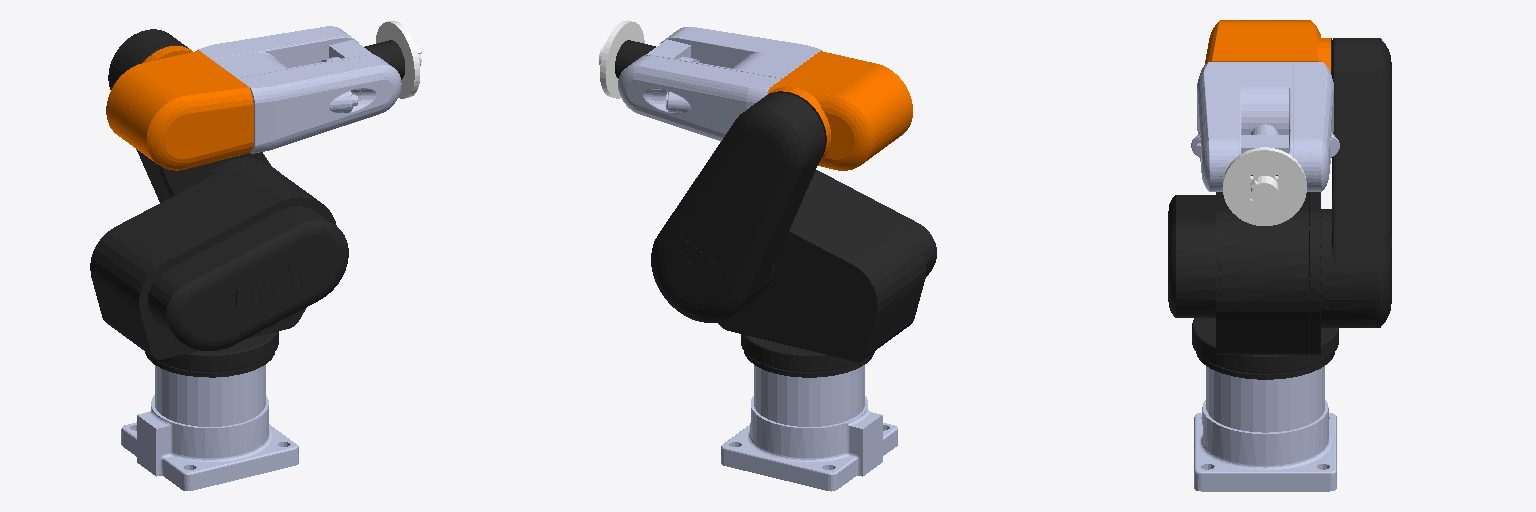
URDF robot description (kukakr3):
<robot
  name="kukakr3">
  <link name = "world">
    <inertial>
      <origin
        xyz="-0.23 0 0"
        rpy="0 0 0" />
    </inertial>
  </link>
  <joint
    name="fixed0"
    type="fixed">
    <origin
      xyz="-0.23 0 0"
      rpy="0 0 0" />
    <parent
      link="world" />
    <child
      link="base_link" />
    <axis
      xyz="0 0 0" />
  </joint> 
 
 <link
    name="base_link">
    <inertial>
      <origin
        xyz="-0.0018864 -3.5166E-08 0.077658"
        rpy="0 0 0" />
      <mass
        value="4.7424" />
      <inertia
        ixx="0"
        ixy="0"
        ixz="0"
        iyy="0"
        iyz="0"
        izz="0" />
    </inertial>
    <visual>
      <origin
        xyz="0 0 0"
        rpy="0 0 0" />
      <geometry>
        <mesh
          filename="package://kukakr3/meshes/base_link.STL" />
      </geometry>
      <material
        name="">
        <color
          rgba="0.79216 0.81961 0.93333 1" />
      </material>
    </visual>
    <collision>
      <origin
        xyz="0 0 0"
        rpy="0 0 0" />
      <geometry>
        <mesh
          filename="package://kukakr3/meshes/base_link.STL" />
      </geometry>
    </collision>
  </link>
  <link
    name="headarm">
    <inertial>
      <origin
        xyz="0.01397 -0.015936 0.13297"
        rpy="0 0 0" />
      <mass
        value="13.487" />
      <inertia
        ixx="0.00021507"
        ixy="9.6297E-06"
        ixz="-7.2191E-06"
        iyy="3.0113E-05"
        iyz="3.4789E-05"
        izz="0.00023073" />
    </inertial>
    <visual>
      <origin
        xyz="0 0 0"
        rpy="0 0 0" />
      <geometry>
        <mesh
          filename="package://kukakr3/meshes/headarm.STL" />
      </geometry>
      <material
        name="">
        <color
          rgba="0.2 0.2 0.2 1" />
      </material>
    </visual>
    <collision>
      <origin
        xyz="0 0 0"
        rpy="0 0 0" />
      <geometry>
        <mesh
          filename="package://kukakr3/meshes/headarm.STL" />
      </geometry>
    </collision>
  </link>
  <joint
    name="headarm"
    type="continuous">
    <origin
      xyz="0 0 0.175"
      rpy="0 0 0" />
    <parent
      link="base_link" />
    <child
      link="headarm" />
    <axis
      xyz="0 0 1" />
    <limit
      lower="-3.1415"
      upper="3.1415"
      effort="0"
      velocity="4.188" />
  </joint>
  <link
    name="lowerarm">
    <inertial>
      <origin
        xyz="-0.051326 -0.10098 0.041802"
        rpy="0 0 0" />
      <mass
        value="4.7698" />
      <inertia
        ixx="4.8356E-05"
        ixy="-1.651E-05"
        ixz="-1.0495E-05"
        iyy="2.5603E-05"
        iyz="-2.0096E-05"
        izz="5.1519E-05" />
    </inertial>
    <visual>
      <origin
        xyz="0 0 0"
        rpy="0 0 0" />
      <geometry>
        <mesh
          filename="package://kukakr3/meshes/lowerarm.STL" />
      </geometry>
      <material
        name="">
        <color
          rgba="0.2 0.2 0.2 1" />
      </material>
    </visual>
    <collision>
      <origin
        xyz="0 0 0"
        rpy="0 0 0" />
      <geometry>
        <mesh
          filename="package://kukakr3/meshes/lowerarm.STL" />
      </geometry>
    </collision>
  </link>
  <joint
    name="lowerarm"
    type="revolute">
    <origin
      xyz="0.1 0.094 0.175"
      rpy="-1.5708 0 0" />
    <parent
      link="headarm" />
    <child
      link="lowerarm" />
    <axis
      xyz="0 0 1" />
    <limit
      lower="-0.785"
      upper="2.356"
      effort="0"
      velocity="3.66" />
  </joint>
  <link
    name="upperarm">
    <inertial>
      <origin
        xyz="0.0324460175273932 3.69925123311354E-07 0.0899424685089879"
        rpy="0 0 0" />
      <mass
        value="3.19834503634833" />
      <inertia
        ixx="0"
        ixy="0"
        ixz="0"
        iyy="0"
        iyz="0"
        izz="0" />
    </inertial>
    <visual>
      <origin
        xyz="0 0 0"
        rpy="0 0 0" />
      <geometry>
        <mesh
          filename="package://kukakr3/meshes/upperarm.STL" />
      </geometry>
      <material
        name="">
        <color
          rgba="1 0.498039215686275 0 1" />
      </material>
    </visual>
    <collision>
      <origin
        xyz="0 0 0"
        rpy="0 0 0" />
      <geometry>
        <mesh
          filename="package://kukakr3/meshes/upperarm.STL" />
      </geometry>
    </collision>
  </link>
  <joint
    name="upperarm"
    type="revolute">
    <origin
      xyz="-0.12007 -0.23624 0"
      rpy="3.1416 0 3.1416" />
    <parent
      link="lowerarm" />
    <child
      link="upperarm" />
    <axis
      xyz="0 0 1" />
    <limit
      lower="-3.926"
      upper="0.785"
      effort="0"
      velocity="4.188" />
  </joint>
  <link
    name="foreupper">
    <inertial>
      <origin
        xyz="5.1844E-06 -3.9264E-05 0.11465"
        rpy="0 0 0" />
      <mass
        value="3.5742" />
      <inertia
        ixx="0"
        ixy="0"
        ixz="0"
        iyy="0"
        iyz="0"
        izz="0" />
    </inertial>
    <visual>
      <origin
        xyz="0 0 0"
        rpy="0 0 0" />
      <geometry>
        <mesh
          filename="package://kukakr3/meshes/foreupper.STL" />
      </geometry>
      <material
        name="">
        <color
          rgba="0.79216 0.81961 0.93333 1" />
      </material>
    </visual>
    <collision>
      <origin
        xyz="0 0 0"
        rpy="0 0 0" />
      <geometry>
        <mesh
          filename="package://kukakr3/meshes/foreupper.STL" />
      </geometry>
    </collision>
  </link>
  <joint
    name="foreupper"
    type="revolute">
    <origin
      xyz="-0.035 0 0.094"
      rpy="-1.5708 0 1.5708" />
    <parent
      link="upperarm" />
    <child
      link="foreupper" />
    <axis
      xyz="0 0 1" />
    <limit
      lower="-3.1415"
      upper="3.1415"
      effort="0"
      velocity="6.544" />
  </joint>
  <link
    name="wrist">
    <inertial>
      <origin
        xyz="0.0171303857544192 0 0.0370000000000103"
        rpy="0 0 0" />
      <mass
        value="0.295781549289781" />
      <inertia
        ixx="0"
        ixy="0"
        ixz="0"
        iyy="0"
        iyz="0"
        izz="0" />
    </inertial>
    <visual>
      <origin
        xyz="0 0 0"
        rpy="0 0 0" />
      <geometry>
        <mesh
          filename="package://kukakr3/meshes/wrist.STL" />
      </geometry>
      <material
        name="">
        <color
          rgba="0.792156862745098 0.819607843137255 0.933333333333333 1" />
      </material>
    </visual>
    <collision>
      <origin
        xyz="0 0 0"
        rpy="0 0 0" />
      <geometry>
        <mesh
          filename="package://kukakr3/meshes/wrist.STL" />
      </geometry>
    </collision>
  </link>
  <joint
    name="wrist"
    type="revolute">
    <origin
      xyz="0 0.036 0.235"
      rpy="1.5708 1.5708 0" />
    <parent
      link="foreupper" />
    <child
      link="wrist" />
    <axis
      xyz="0 0 1" />
    <limit
      lower="-2.356"
      upper="2.356"
      effort="0"
      velocity="5.23" />
  </joint>
  <link
    name="effector">
    <inertial>
      <origin
        xyz="2.8774E-05 -5.0203E-15 0.026109"
        rpy="0 0 0" />
      <mass
        value="0.16216" />
      <inertia
        ixx="0"
        ixy="0"
        ixz="0"
        iyy="0"
        iyz="0"
        izz="0" />
    </inertial>
    <visual>
      <origin
        xyz="0 0 0"
        rpy="0 0 0" />
      <geometry>
        <mesh
          filename="package://kukakr3/meshes/effector.STL" />
      </geometry>
      <material
        name="">
        <color
          rgba="0.2 0.2 0.2 1" />
      </material>
    </visual>
    <collision>
      <origin
        xyz="0 0 0"
        rpy="0 0 0" />
      <geometry>
        <mesh
          filename="package://kukakr3/meshes/effector.STL" />
      </geometry>
    </collision>
  </link>
  <joint
    name="axis6"
    type="continuous">
    <origin
      xyz="-0.021 0 0.037"
      rpy="-1.5708 0 1.5708" />
    <parent
      link="wrist" />
    <child
      link="effector" />
    <axis
      xyz="0 0 1" />
    <limit
      effort="0"
      velocity="6.544" />
  </joint>
  <link
    name="tool">
    <inertial>
      <origin
        xyz="-0.00037948 -5.6979E-05 0.008911"
        rpy="0 0 0" />
      <mass
        value="0.1439" />
      <inertia
        ixx="0"
        ixy="0"
        ixz="0"
        iyy="0"
        iyz="0"
        izz="0" />
    </inertial>
    <visual>
      <origin
        xyz="0 0 0"
        rpy="0 0 0" />
      <geometry>
        <mesh
          filename="package://kukakr3/meshes/tool.STL" />
      </geometry>
      <material
        name="">
        <color
          rgba="1 1 1 1" />
      </material>
    </visual>
    <collision>
      <origin
        xyz="0 0 0"
        rpy="0 0 0" />
      <geometry>
        <mesh
          filename="package://kukakr3/meshes/tool.STL" />
      </geometry>
    </collision>
  </link>
  <joint
    name="tool"
    type="fixed">
    <origin
      xyz="0.0003218 0 0.054"
      rpy="2.3991E-29 1.1751E-43 2.8191E-72" />
    <parent
      link="effector" />
    <child
      link="tool" />
    <axis
      xyz="0 0 1" />
    <limit
      lower="0"
      upper="0"
      effort="0"
      velocity="0" />
  </joint>
</robot>

--- Render facts (derived) ---
Views: 3 orthographic renders of the robot side by side, from view 1: azimuth 30°, elevation 25°; view 2: azimuth 150°, elevation 25°; view 3: azimuth 270°, elevation 25°.
Model kukakr3 with 9 links and 8 joints (4 revolute, 2 continuous, 2 fixed), rooted at world, posed all joints at 0.
Visible links, largest first — view 1: headarm, base_link, foreupper, upperarm, lowerarm, tool, effector, wrist; view 2: headarm, lowerarm, base_link, foreupper, upperarm, tool, effector, wrist; view 3: headarm, lowerarm, base_link, foreupper, tool, upperarm, wrist.
Boxes of the visible links, <box> form: headarm: <box>90,157,348,377</box>; base_link: <box>121,365,298,490</box>; foreupper: <box>197,26,401,153</box>; upperarm: <box>106,46,253,170</box>; lowerarm: <box>108,29,270,202</box>; tool: <box>376,21,421,98</box>; effector: <box>364,40,404,79</box>; wrist: <box>321,40,373,61</box>; headarm: <box>717,170,936,377</box>; lowerarm: <box>651,91,826,322</box>; base_link: <box>721,365,897,491</box>; foreupper: <box>618,27,821,140</box>; upperarm: <box>766,51,912,170</box>; tool: <box>599,20,644,98</box>; effector: <box>615,40,655,78</box>; wrist: <box>646,39,699,62</box>; headarm: <box>1168,192,1338,379</box>; lowerarm: <box>1331,38,1391,327</box>; base_link: <box>1194,366,1336,491</box>; foreupper: <box>1191,62,1339,191</box>; tool: <box>1223,147,1306,225</box>; upperarm: <box>1204,20,1330,72</box>; wrist: <box>1241,124,1288,153</box>.
Bounding box of the posed robot: 0.5259 × 0.3205 × 0.6512 m (x, y, z).
8 mesh visuals loaded from 8 distinct referenced files (8 binary STL).
